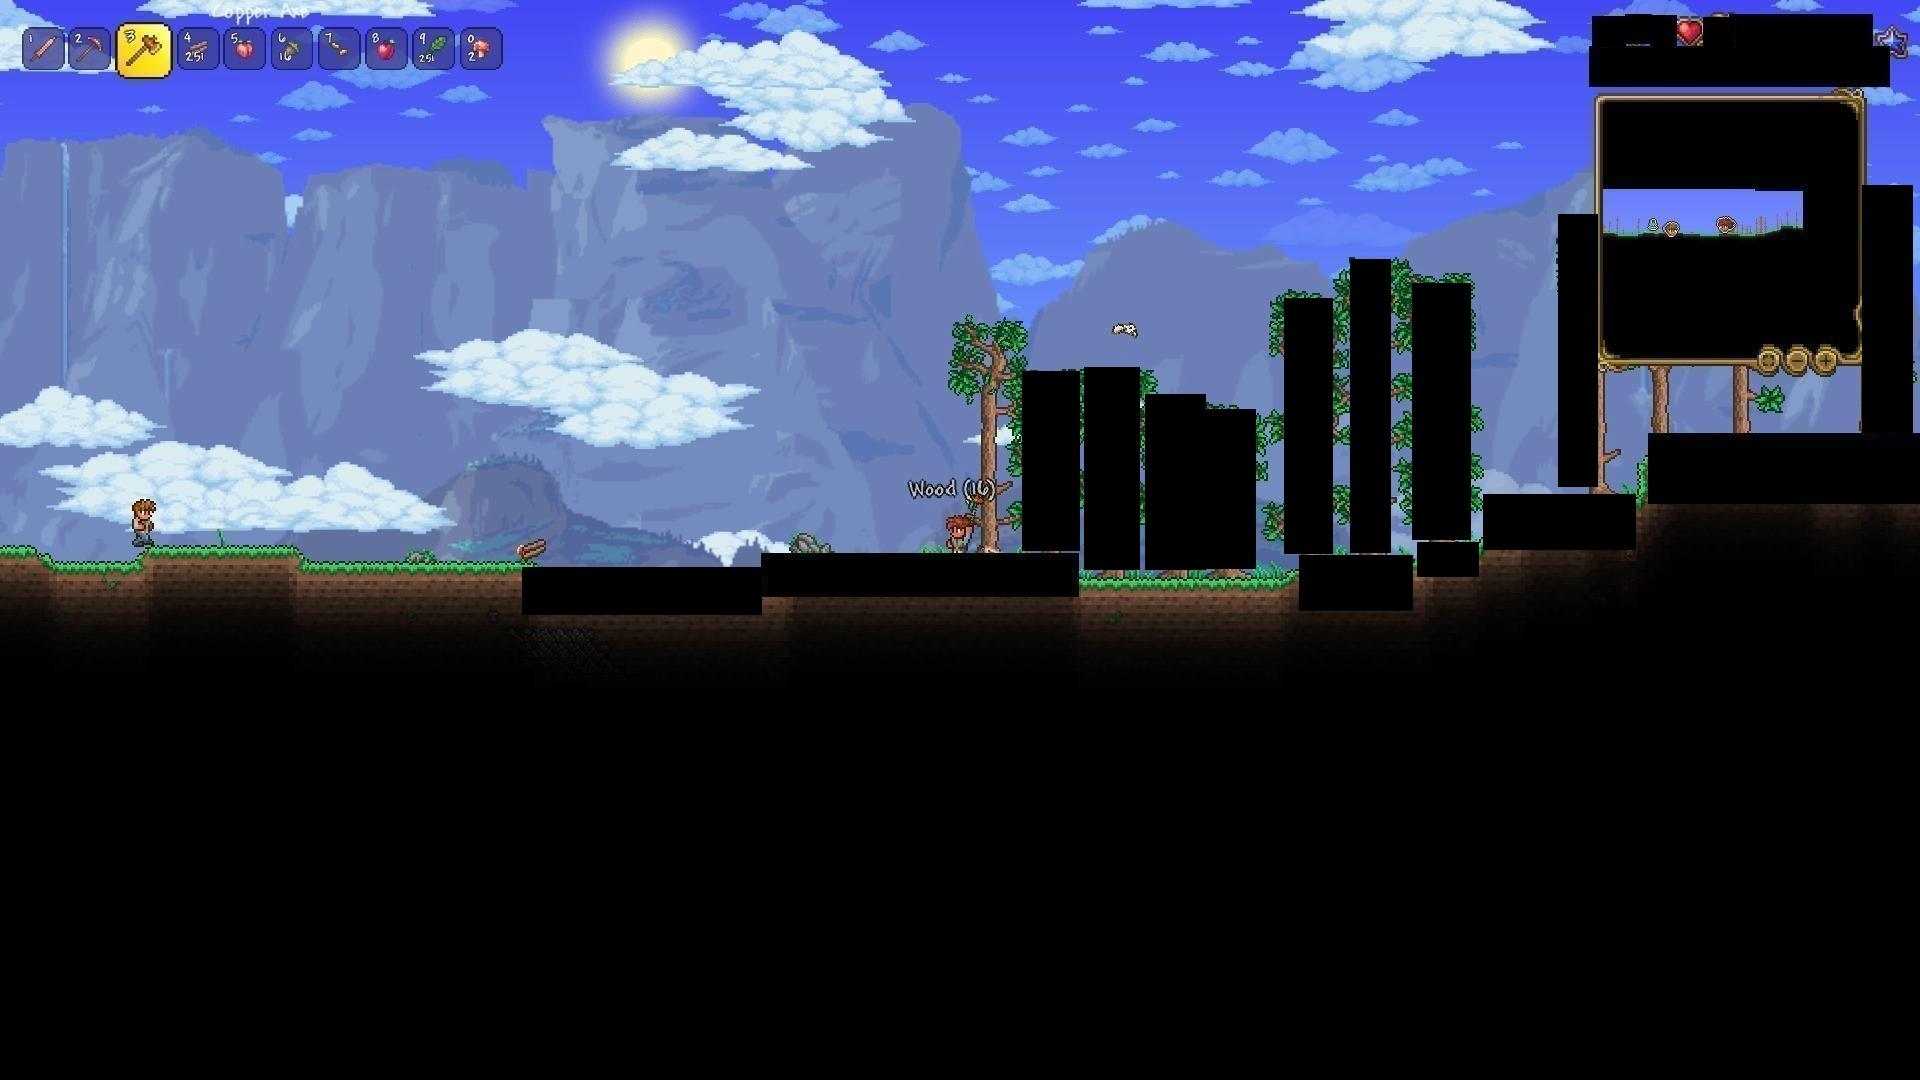dirt: (0, 537, 521, 604), (1076, 571, 1296, 618)
heart: (1676, 15, 1704, 50)
tree: (952, 310, 1015, 554)
wood: (521, 534, 551, 563), (186, 33, 216, 62)
